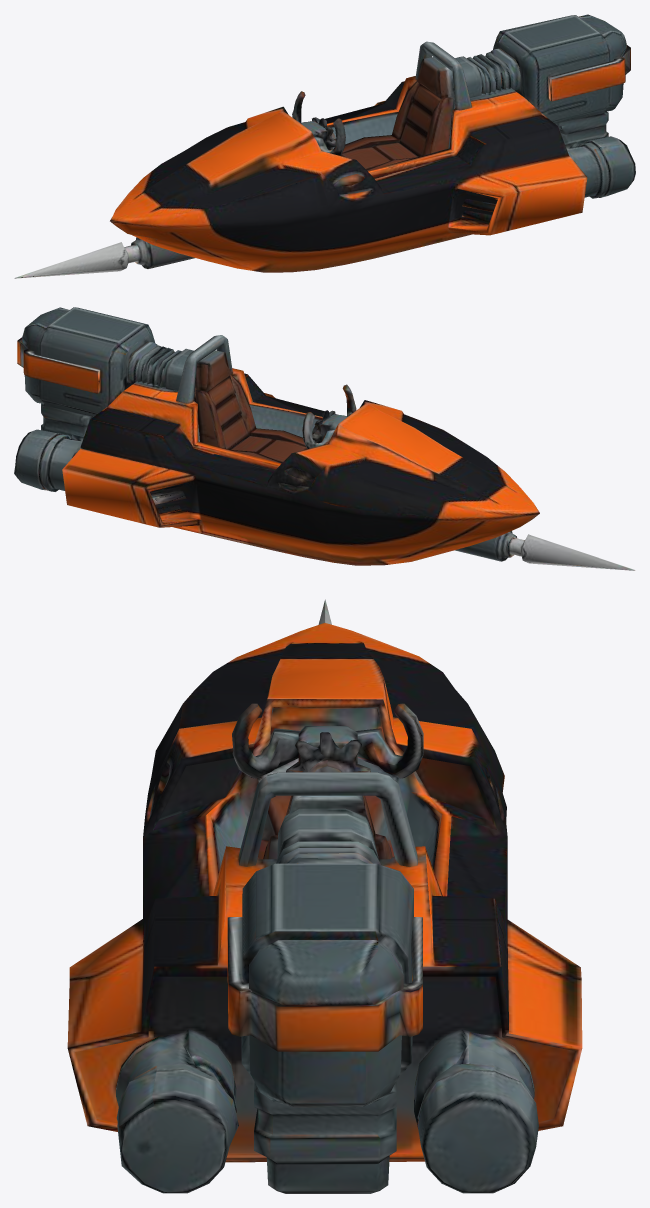
File: raider.glb
3 renders of one model, top to bottom at view 1: azimuth 30°, elevation 25°; view 2: azimuth 150°, elevation 25°; view 3: azimuth 270°, elevation 25°, orthographic. The views are drawn at different scales.
Bounding box in the file's own units: 0.96 × 0.2354 × 0.3535.
Materials: 1 (1 with a texture image).
